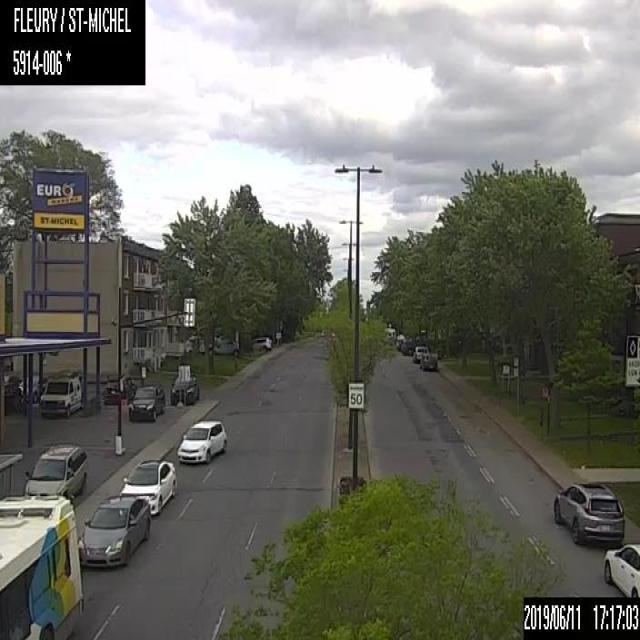bus: (0, 492, 84, 639)
vehicle: (77, 492, 151, 569), (551, 476, 626, 548), (23, 439, 88, 504), (117, 456, 179, 518), (176, 415, 227, 466), (601, 539, 639, 595), (37, 374, 83, 417), (126, 382, 167, 424), (101, 373, 136, 404), (169, 371, 199, 406), (209, 336, 238, 356), (412, 343, 429, 364), (251, 336, 273, 351), (421, 353, 438, 371), (400, 339, 414, 355)
